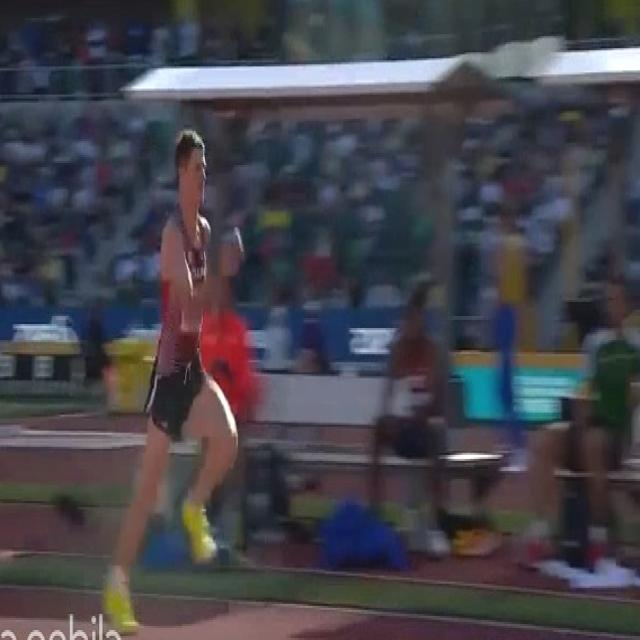run: (106, 128, 237, 630)
